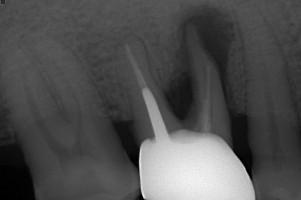Dental Caries: (161, 3, 238, 119)
